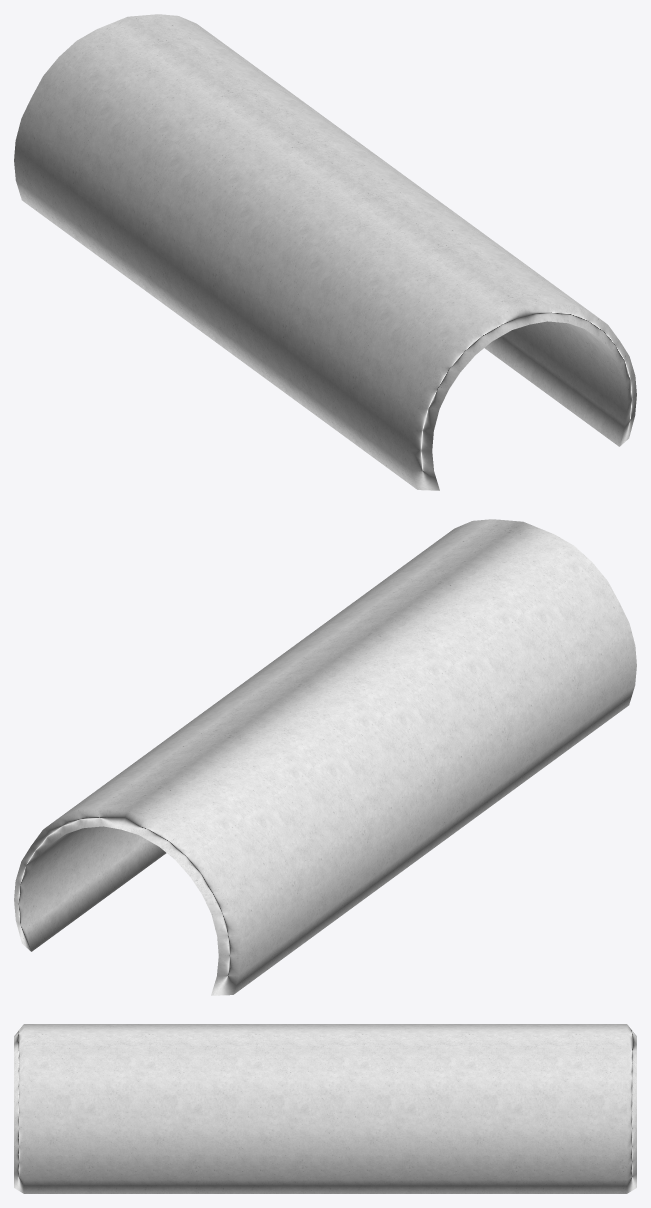
File: Tunnel.fbx
3 views of the same model, one above another, from view 1: azimuth 30°, elevation 25°; view 2: azimuth 150°, elevation 25°; view 3: azimuth 270°, elevation 25° (orthographic). The views are drawn at different scales.
Visible parts, largest first — view 1: Cube; view 2: Cube; view 3: Cube.
Boxes of the visible parts, left/top/right/bottom form: Cube: left=14, top=14, right=636, bottom=490; Cube: left=14, top=519, right=636, bottom=995; Cube: left=14, top=1024, right=636, bottom=1193.
Bounding box in the file's own units: 1027 × 682 × 3200.
